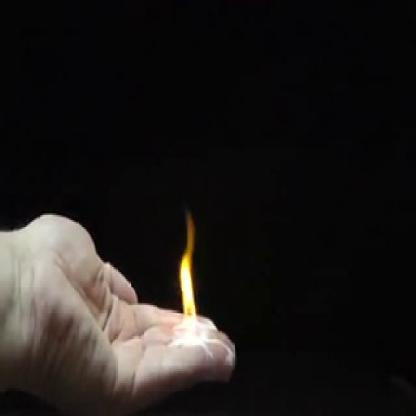fire: (174, 202, 204, 344)
